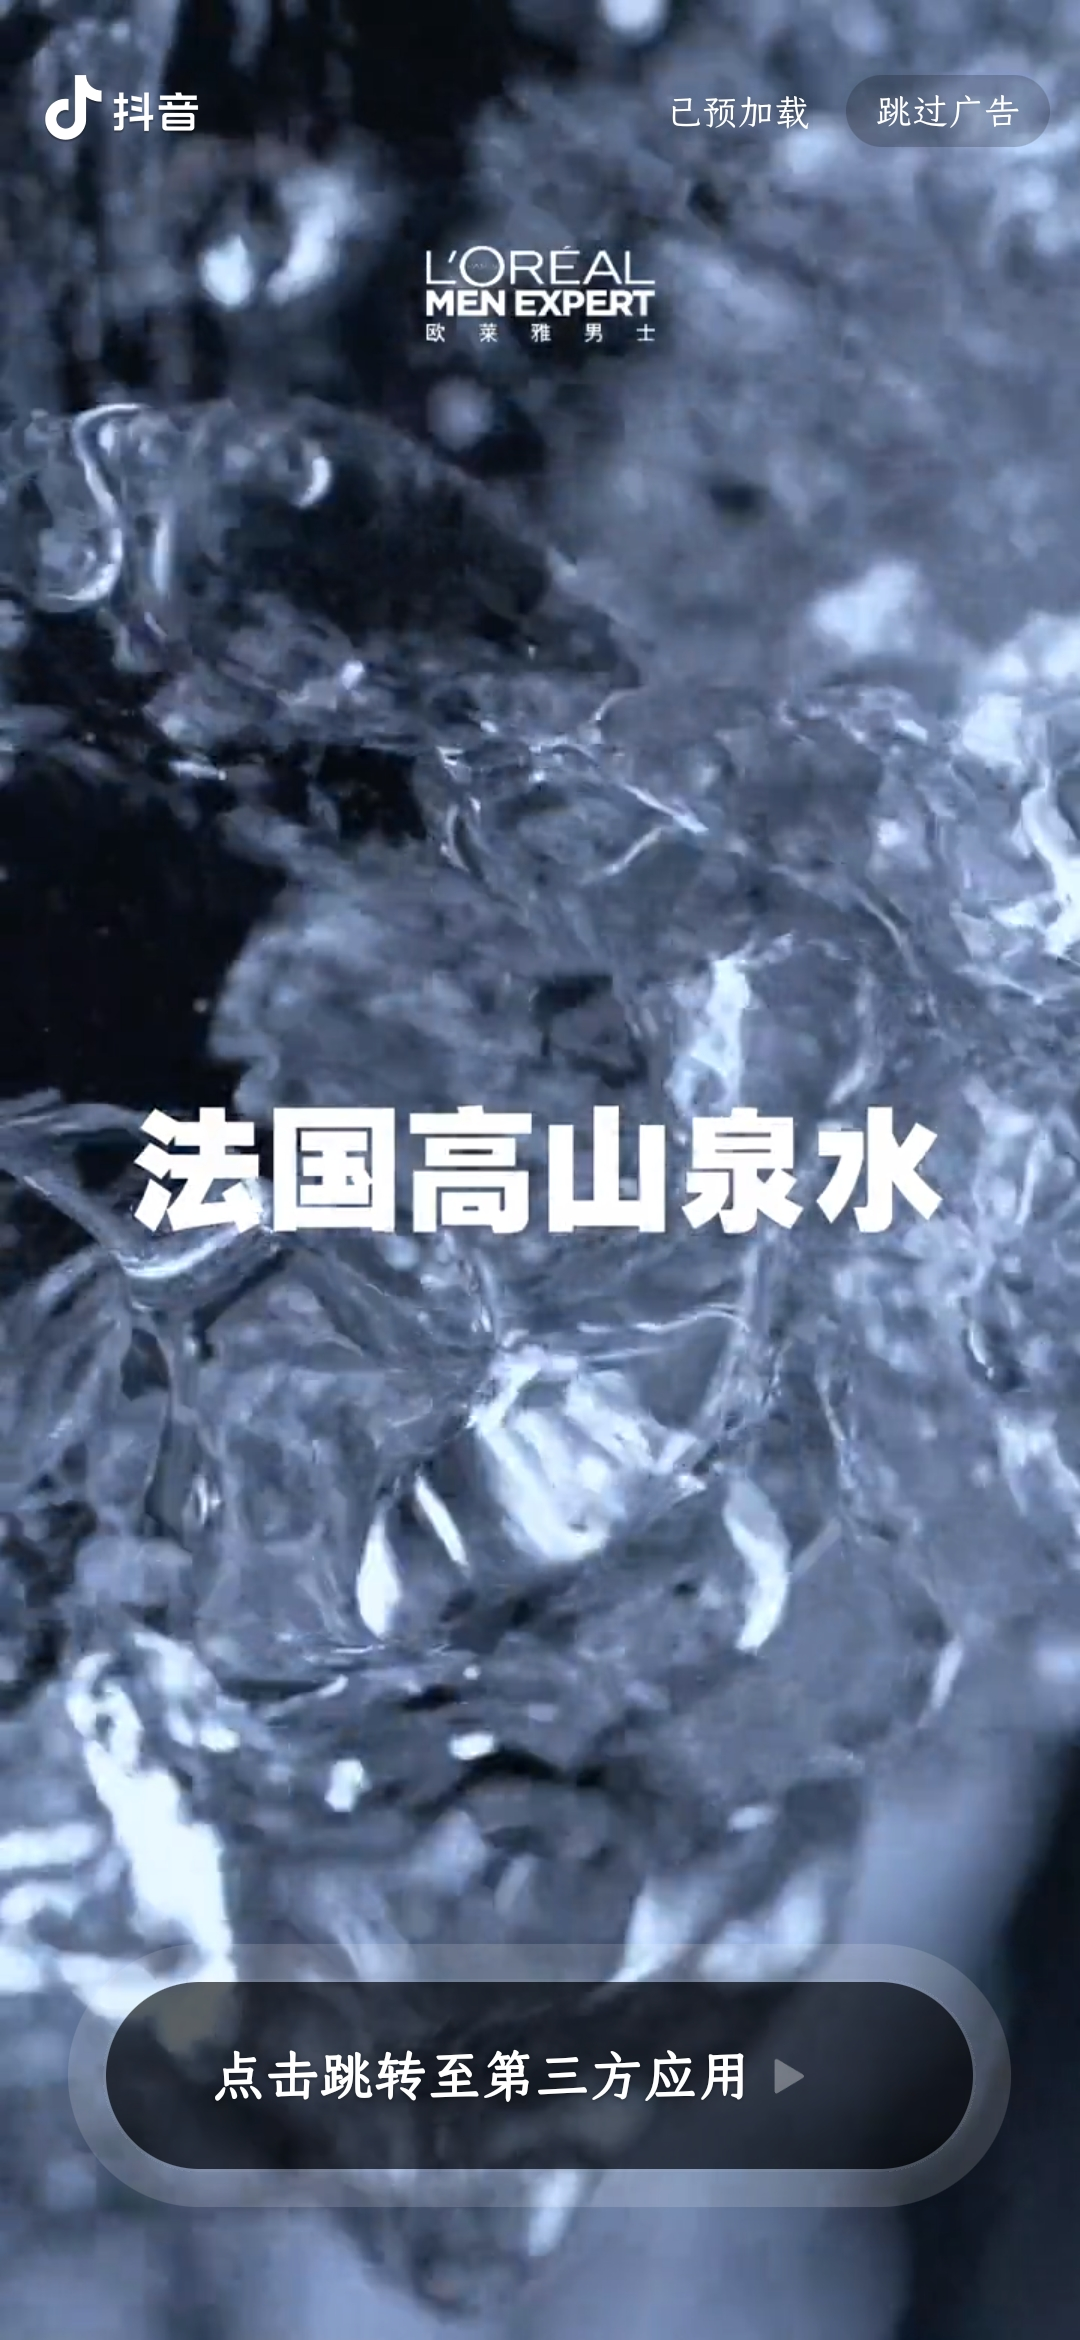skip: (861, 75, 1031, 148)
